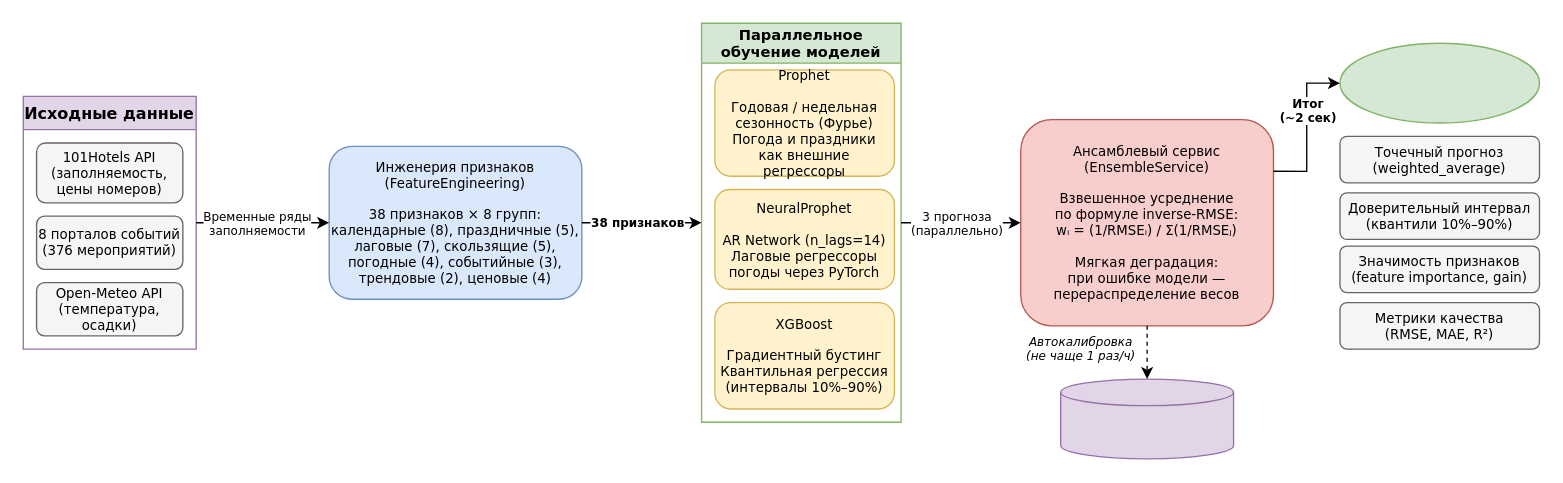
The diagram is 1563 pixels wide and 483 high, and some of its shapes have lost their labels. The centre of each missing label's shape, as x and y in pixels:
Redis (кэш, TTL 30 мин): the point at 1146,418
Итоговый прогноз: the point at 1439,82
